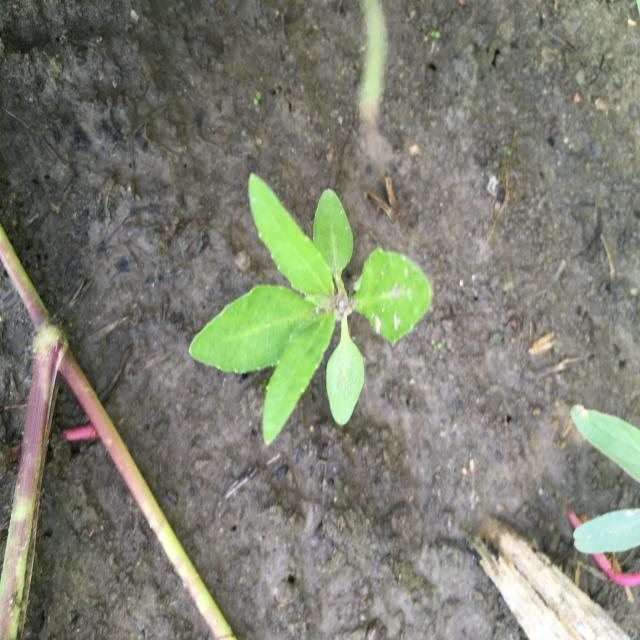Eclipta: (187, 170, 434, 450)
